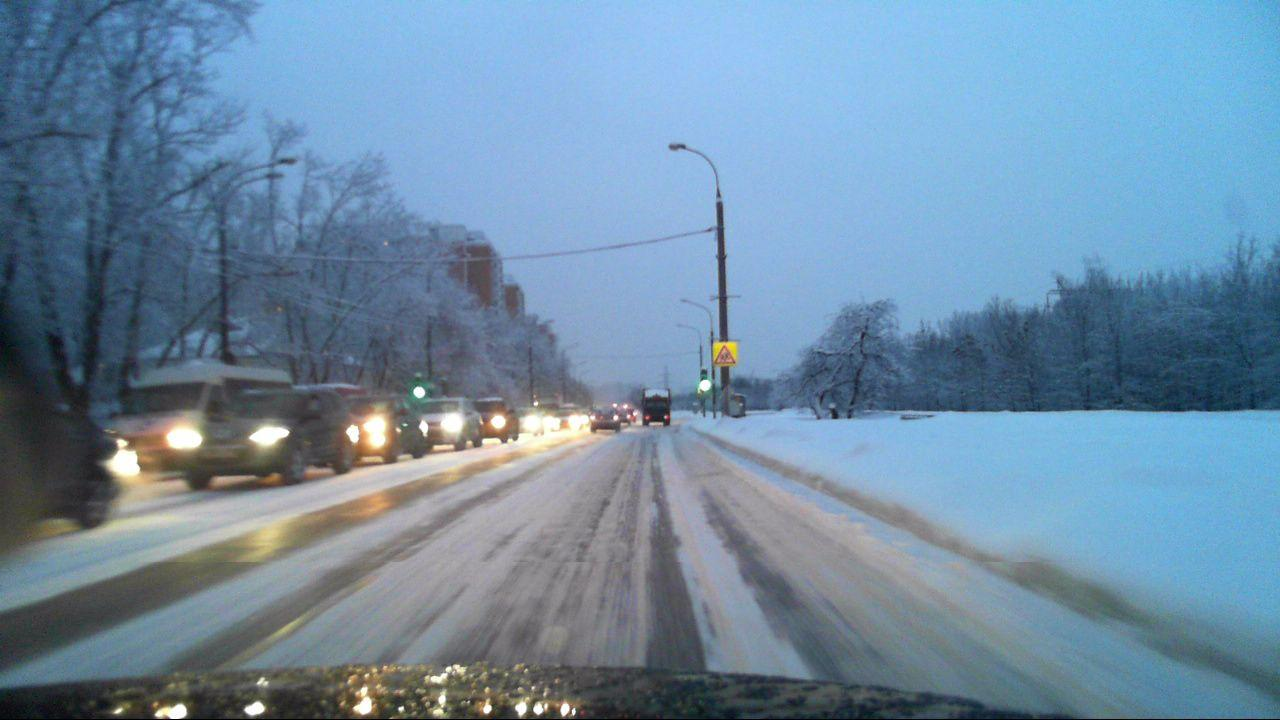road_sign: (712, 341, 738, 366)
traffic light: (700, 368, 708, 392)
